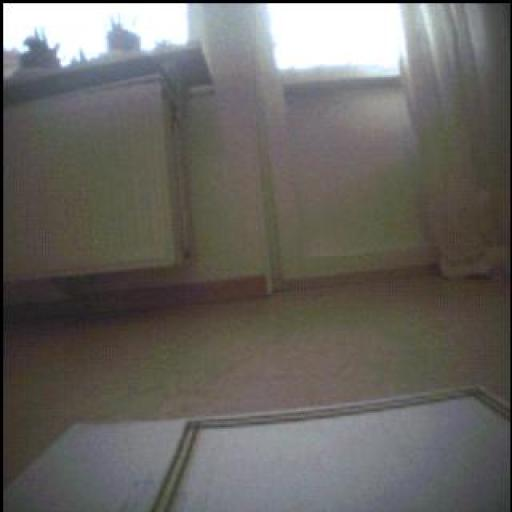Pad: (6, 384, 483, 512)
